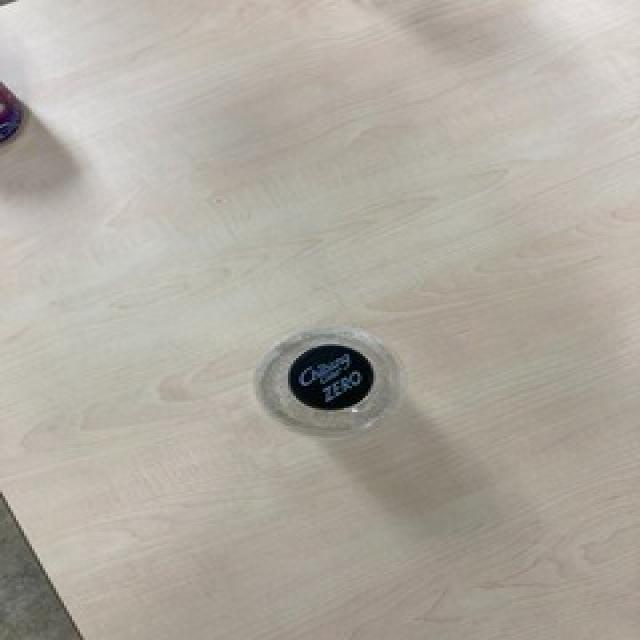good: (250, 319, 414, 445)
